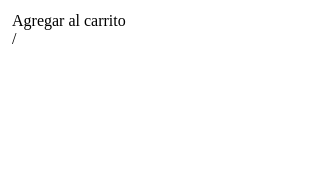
Scenario: AddToCart › shows the API message when there is not enough stock
Click the button with aria-label "Agregar al carrito: Echo": point(69, 21) [12,12,126,30]
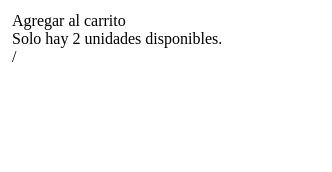
Now the message reads "Solo hay 2 unidades disponibles.", box [12,30,222,47]
